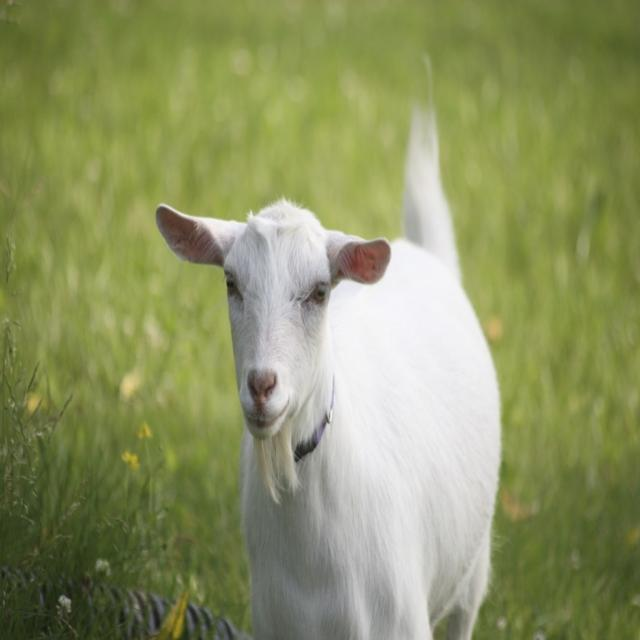Goat: (156, 88, 507, 640)
